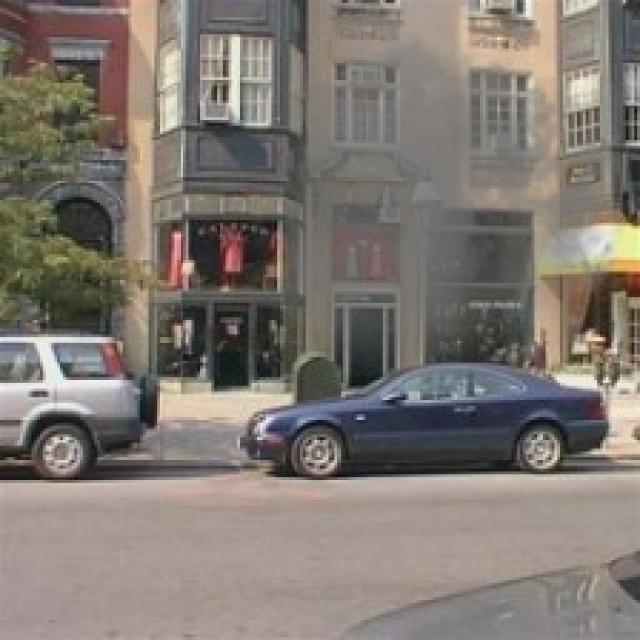smoke: (271, 17, 626, 377)
